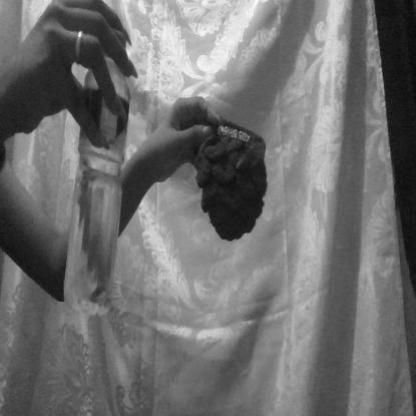Plastic Bottle: (51, 17, 153, 371)
